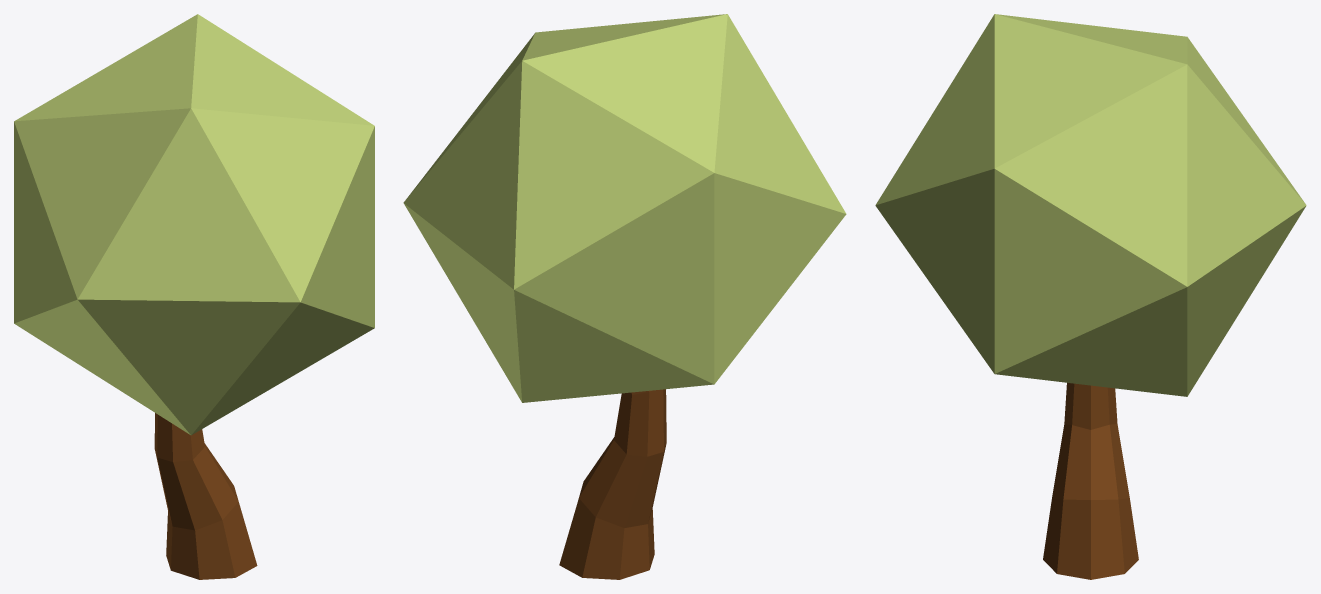
Rendered from Bush3.gltf.
The picture shows the model from 3 angles, left to right: view 1: azimuth 30°, elevation 25°; view 2: azimuth 150°, elevation 25°; view 3: azimuth 270°, elevation 25°; orthographic projection. The views are drawn at different scales.
Visible parts, largest first — view 1: Bush3_Icosphere.004; view 2: Bush3_Icosphere.004; view 3: Bush3_Icosphere.004.
Part boxes in pixels (box(x1,y1,x2,y2)): Bush3_Icosphere.004: box(14, 14, 374, 579); Bush3_Icosphere.004: box(403, 14, 846, 579); Bush3_Icosphere.004: box(875, 14, 1306, 579).
Size of the model in its own units: 0.8552 by 1.25 by 0.9562.
